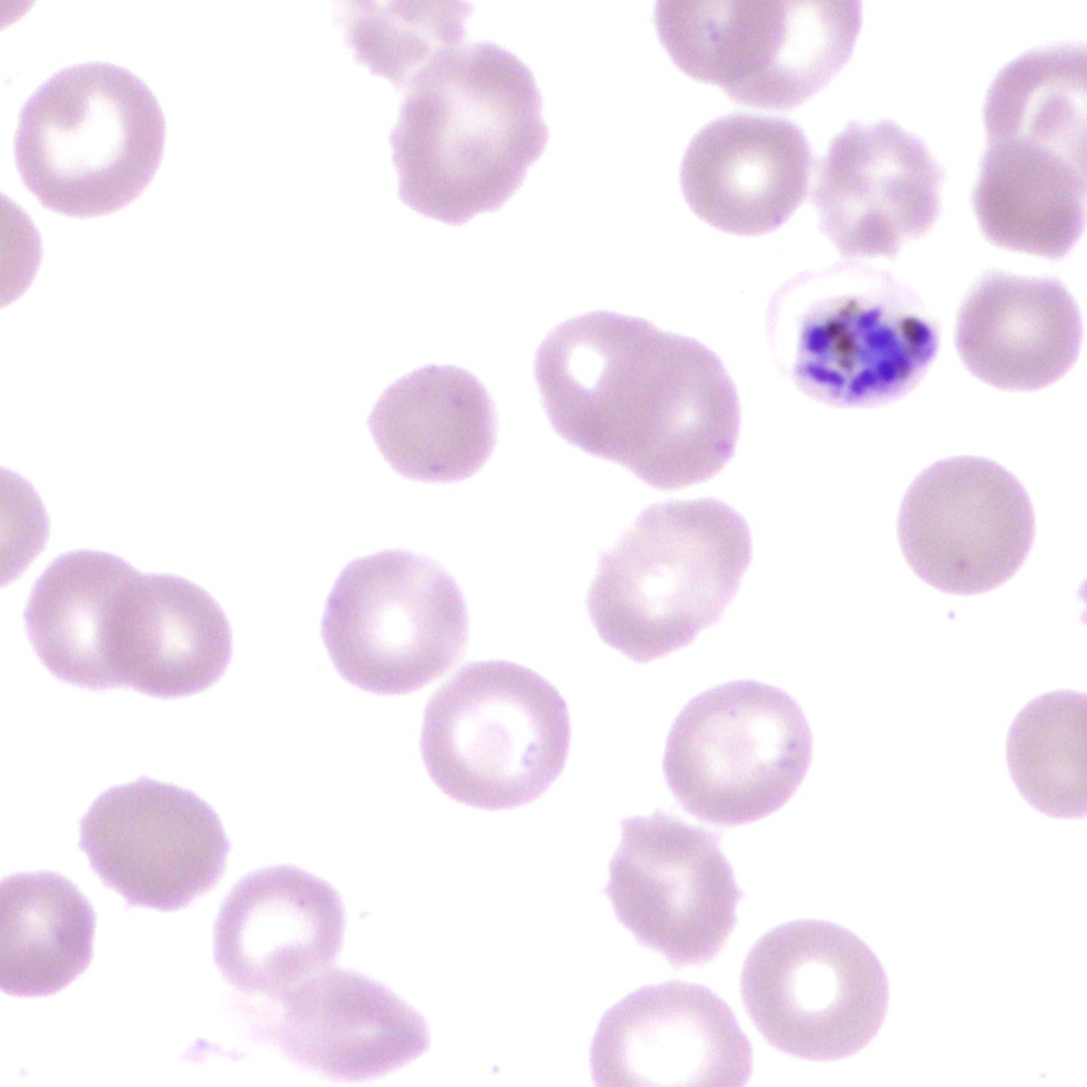Infected: (764, 257, 944, 413)
Uninfected: (583, 496, 759, 659), (385, 44, 540, 227), (603, 808, 746, 973), (593, 335, 741, 492), (420, 657, 565, 815), (661, 677, 808, 829), (18, 64, 164, 215), (747, 914, 893, 1060), (322, 549, 464, 698), (70, 778, 223, 913), (898, 451, 1034, 602), (538, 305, 674, 450), (25, 549, 161, 686), (583, 981, 754, 1087), (274, 969, 434, 1080), (820, 116, 942, 258), (712, 0, 857, 116), (214, 858, 339, 991), (681, 109, 811, 235), (950, 267, 1078, 391), (98, 577, 228, 698), (367, 365, 495, 478), (973, 124, 1080, 257), (644, 0, 785, 84)
